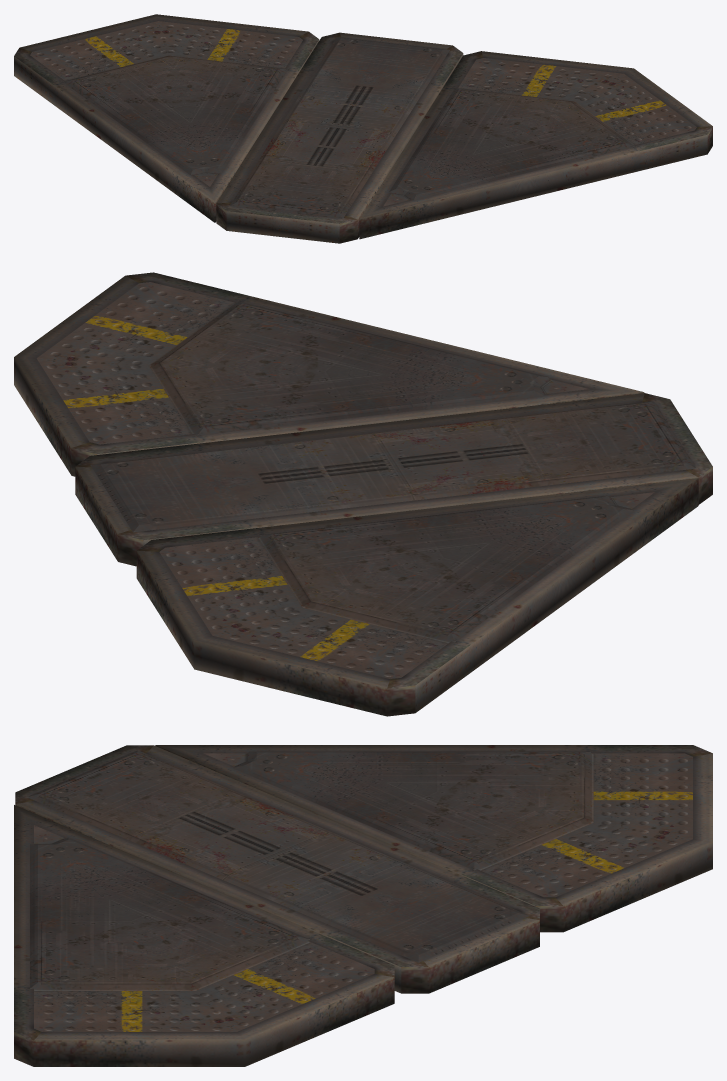
Rendered from Floor_E_2'5qmts_06.fbx.
3 renders of one model, top to bottom at view 1: azimuth 30°, elevation 25°; view 2: azimuth 150°, elevation 25°; view 3: azimuth 270°, elevation 25°, orthographic. The views are drawn at different scales.
Visible parts, largest first — view 1: Floor_E_2'5qmts_06; view 2: Floor_E_2'5qmts_06; view 3: Floor_E_2'5qmts_06.
Part boxes in pixels (box(x1,y1,x2,y2)): Floor_E_2'5qmts_06: box(14, 14, 712, 243); Floor_E_2'5qmts_06: box(14, 272, 712, 716); Floor_E_2'5qmts_06: box(14, 745, 712, 1066).
Bounding box in the file's own units: 299 × 13.81 × 299.
1 material, 1 textured.
